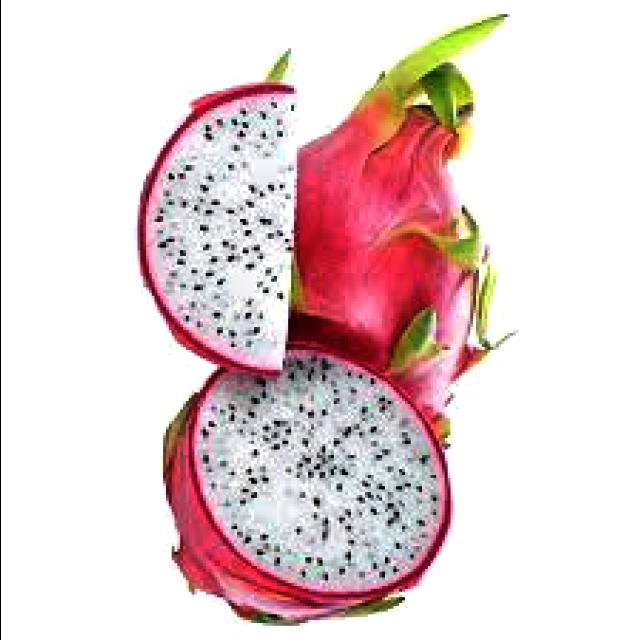trang: (282, 10, 512, 442), (158, 350, 454, 630), (136, 76, 300, 370)
